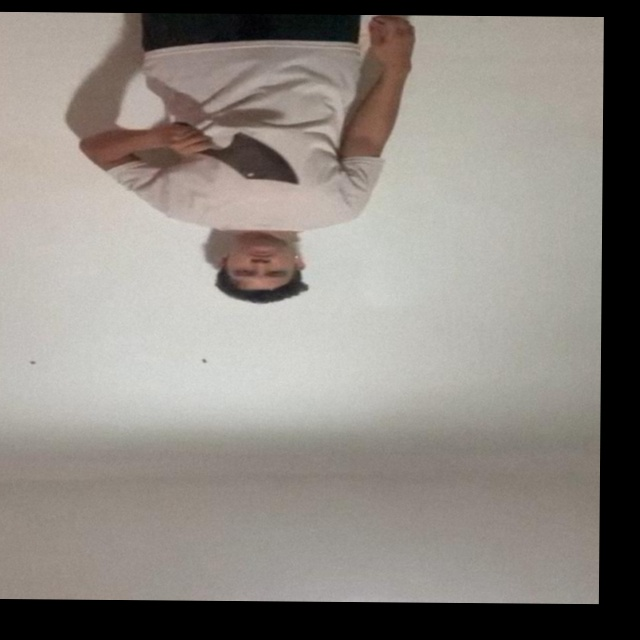Sharp-Object: (216, 132, 301, 191)
